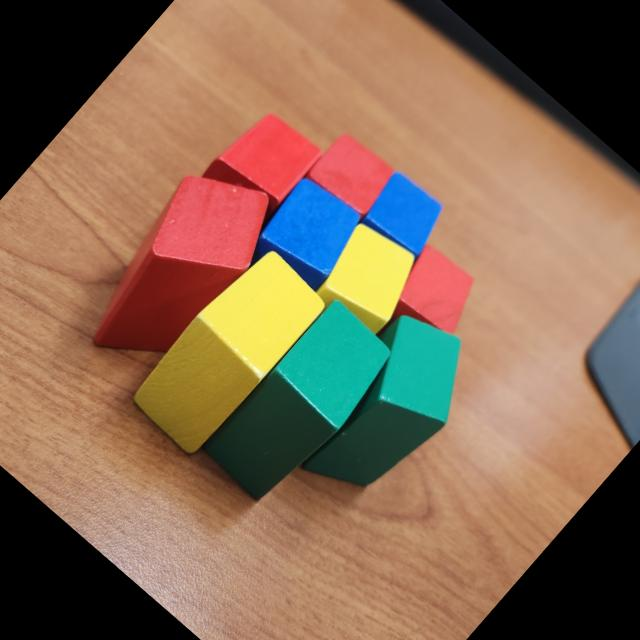blue: (232, 170, 374, 314), (352, 166, 456, 270)
green: (275, 294, 497, 525), (196, 294, 405, 514)
red: (59, 144, 294, 390), (196, 98, 327, 230), (372, 238, 490, 356), (302, 126, 402, 226)
yellow: (125, 240, 332, 460), (302, 214, 433, 345)
